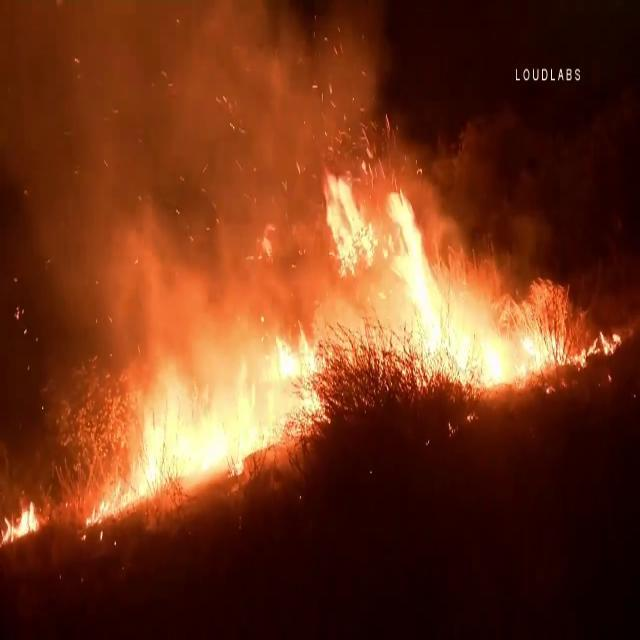Fire: (319, 153, 574, 407), (93, 304, 331, 514), (1, 490, 44, 551)
Smoke: (2, 1, 376, 315)
